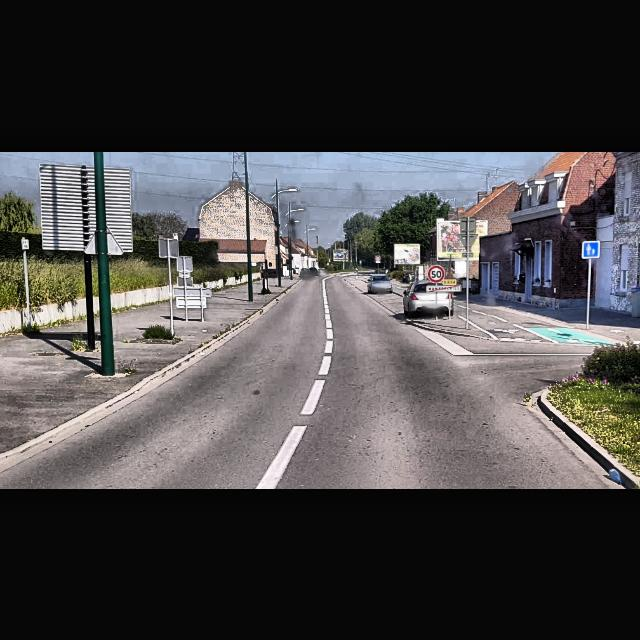speed_50: (428, 264, 444, 282)
